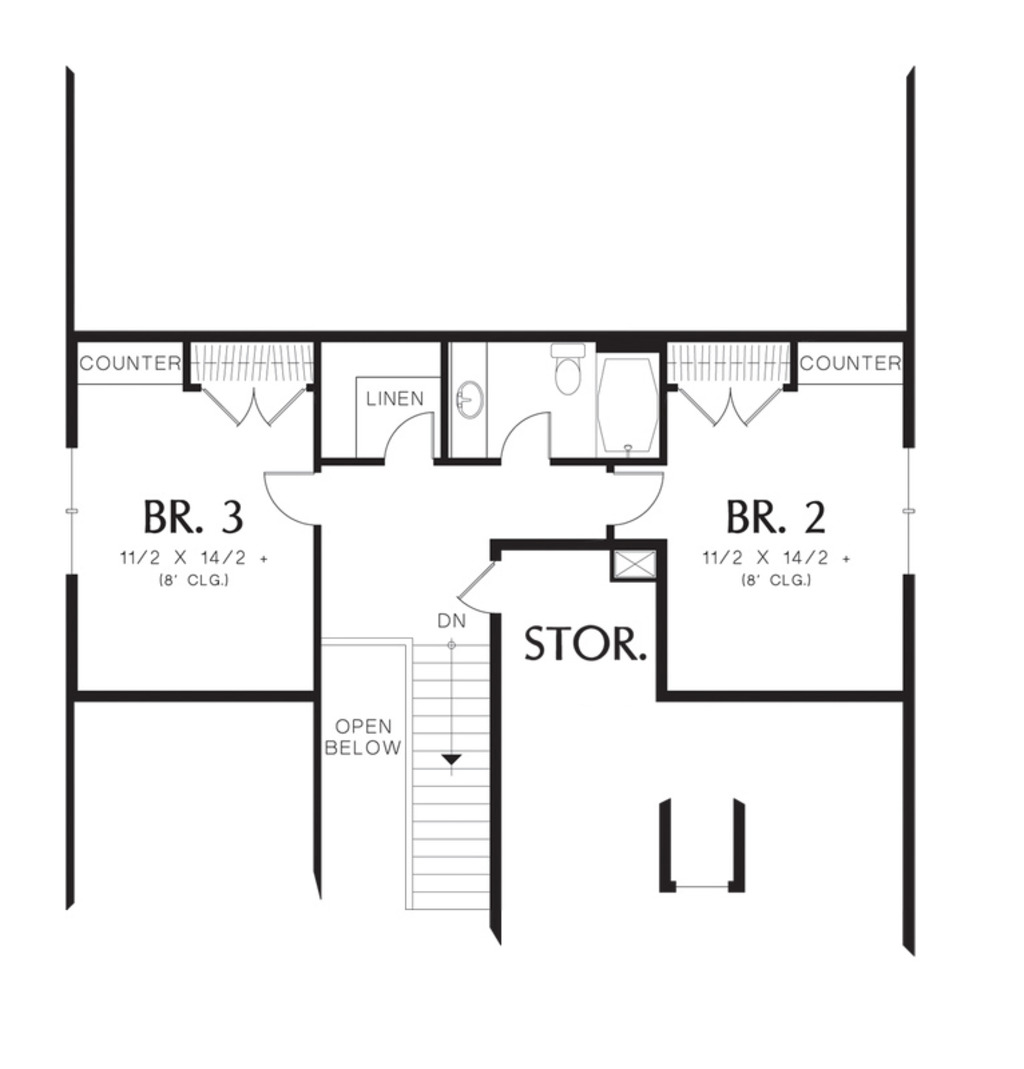door: (198, 377, 303, 434), (258, 462, 333, 529), (679, 385, 776, 432), (379, 412, 446, 465), (613, 470, 668, 534), (461, 539, 499, 619), (496, 409, 556, 459)
large_sink: (538, 339, 594, 400)
small_sink: (446, 337, 494, 465)
stairs: (396, 632, 504, 945)
tub: (591, 350, 664, 459)
window: (61, 445, 86, 574), (901, 447, 914, 574)
